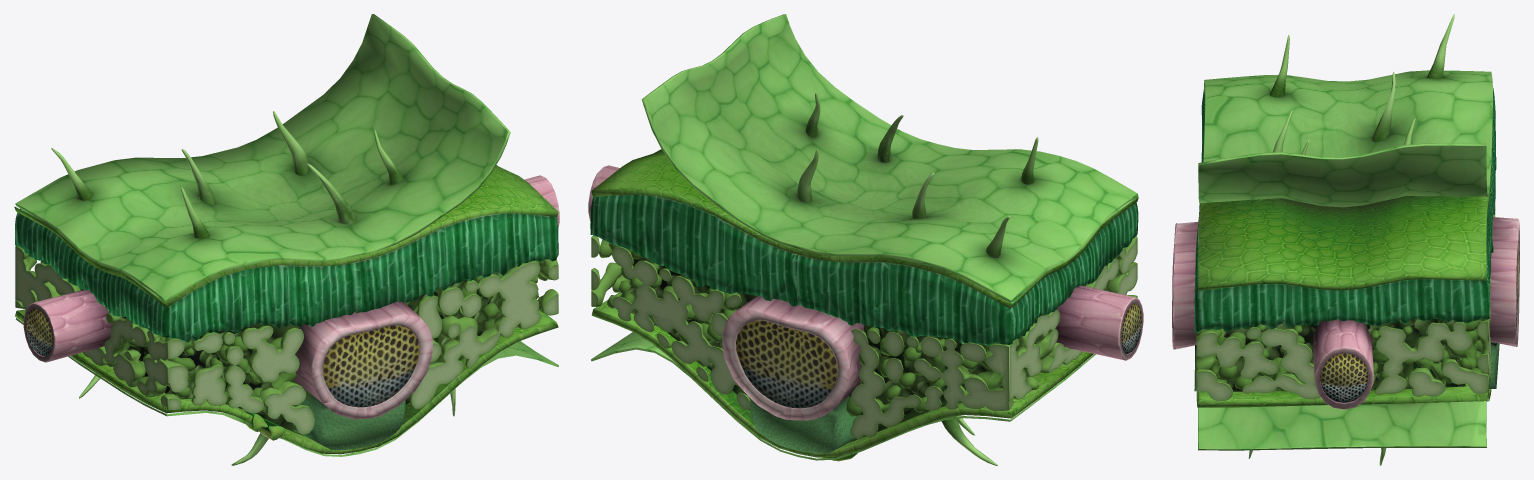
Rendered from leaf.glb.
3 renders of one model, left to right at view 1: azimuth 30°, elevation 25°; view 2: azimuth 150°, elevation 25°; view 3: azimuth 270°, elevation 25°, orthographic. The views are drawn at different scales.
Visible parts, largest first — view 1: leaf_cell_1, xylem, leaf_cell; view 2: leaf_cell_1; view 3: leaf_cell_1, xylem.
Boxes of the visible parts, <box> form: leaf_cell_1: <box>14,14,559,465</box>; xylem: <box>294,301,432,419</box>; leaf_cell: <box>260,372,314,434</box>; leaf_cell_1: <box>588,14,1143,465</box>; leaf_cell_1: <box>1173,14,1519,465</box>; xylem: <box>1172,222,1227,349</box>.
Size of the model in its own units: 3.42 by 2.2 by 1.91.
Materials: 1 (1 with a texture image).
